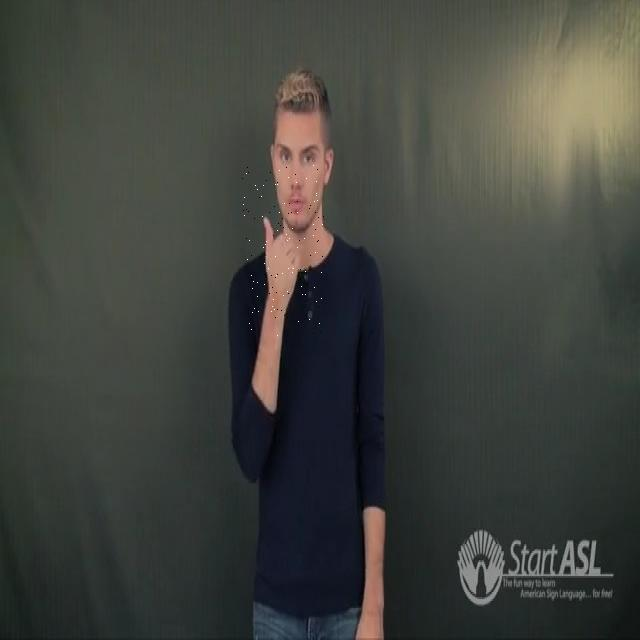sugar: (242, 164, 324, 338)
